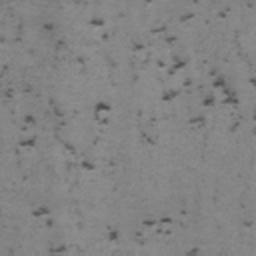Oxide scale of temperature system: (0, 0, 256, 173), (106, 207, 188, 246), (29, 205, 68, 253), (137, 108, 156, 143), (183, 246, 201, 256), (20, 172, 28, 183), (243, 220, 253, 228)
